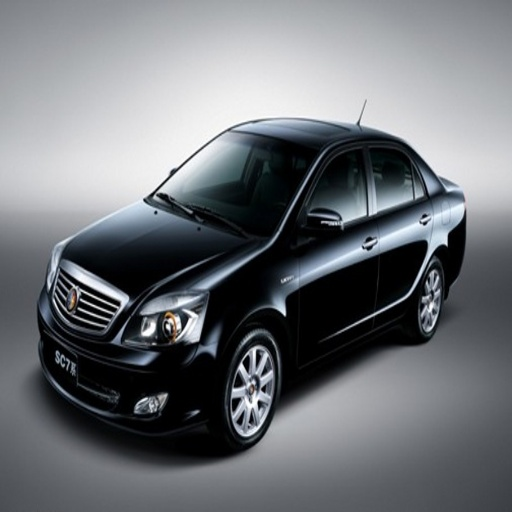front_bumper: (42, 266, 222, 432)
front_glass: (154, 130, 319, 233)
front_left_door: (296, 141, 378, 360)
